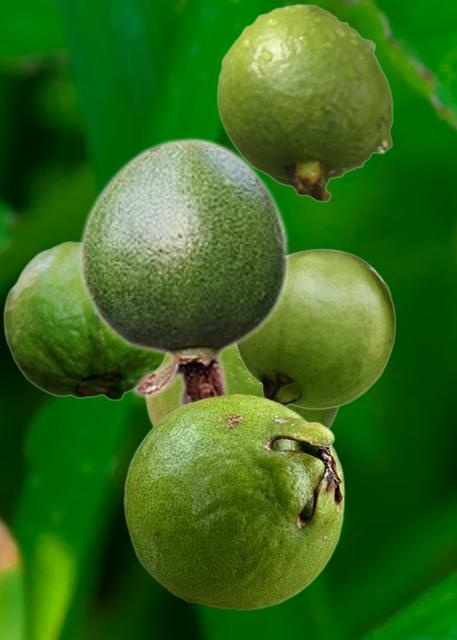guava: (78, 136, 290, 406), (123, 393, 344, 610), (216, 3, 392, 201), (3, 240, 165, 400), (236, 248, 395, 408), (144, 349, 339, 428)
